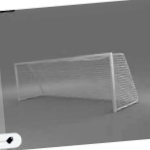goals: (13, 51, 139, 117)
